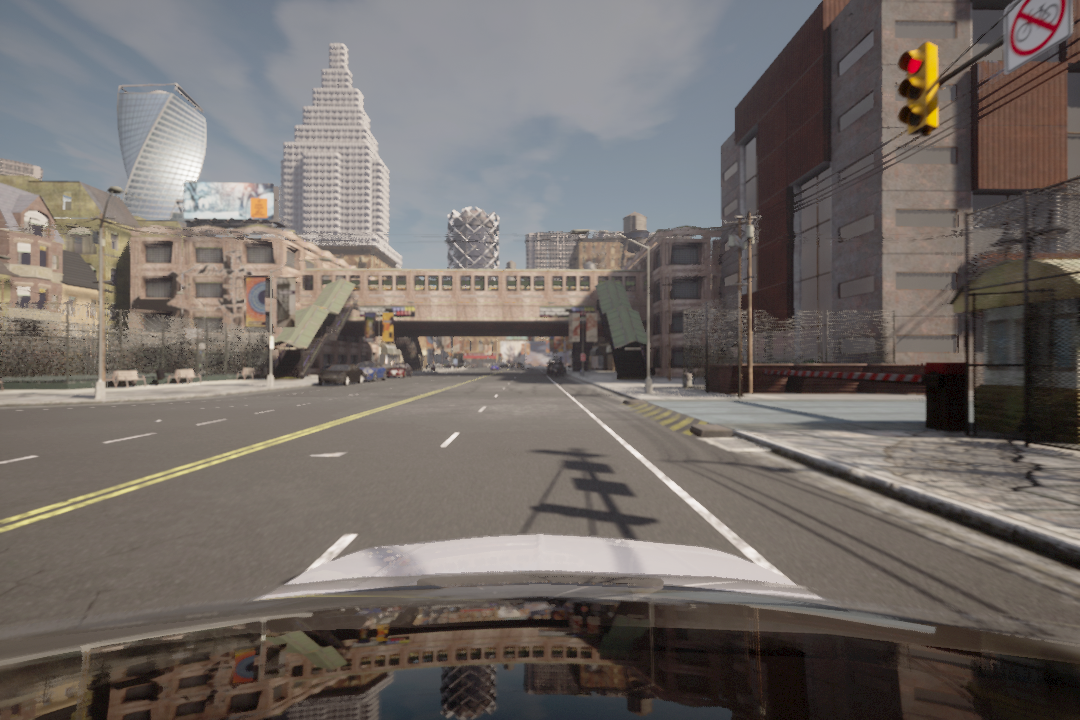TrafficLight: (895, 43, 947, 134)
TrafficSign: (999, 2, 1077, 64)
